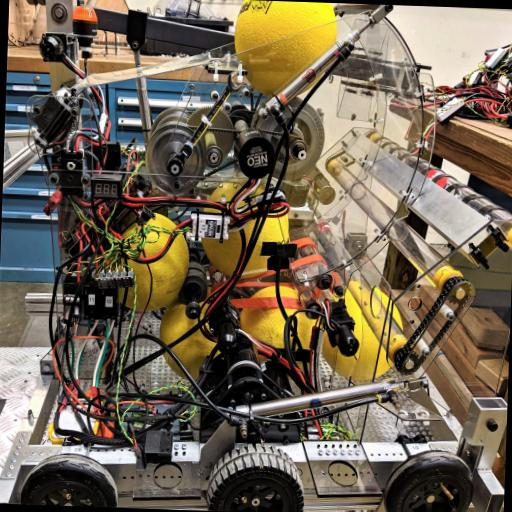robot: (9, 0, 512, 512)
